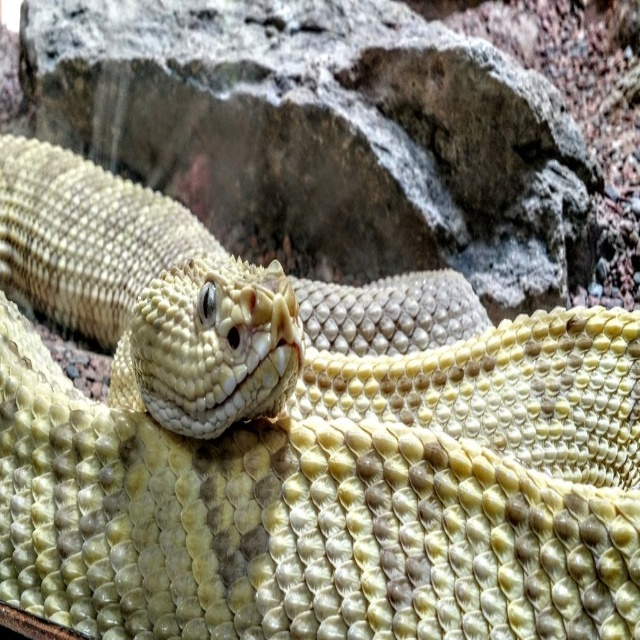Snake: (0, 129, 640, 639)
